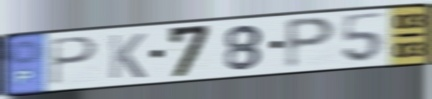5: (340, 9, 388, 65)
7: (165, 23, 213, 80)
8: (223, 23, 264, 73)
K: (107, 32, 148, 81)
P: (282, 15, 339, 72), (48, 35, 100, 88)
